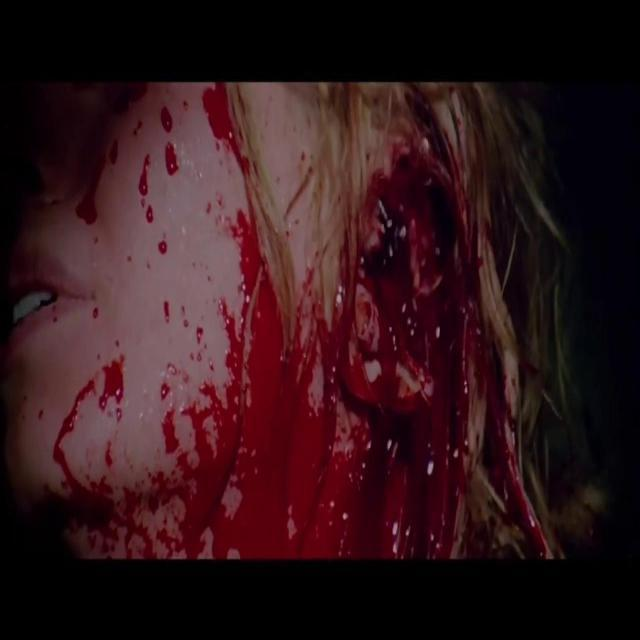flood: (206, 81, 479, 564)
